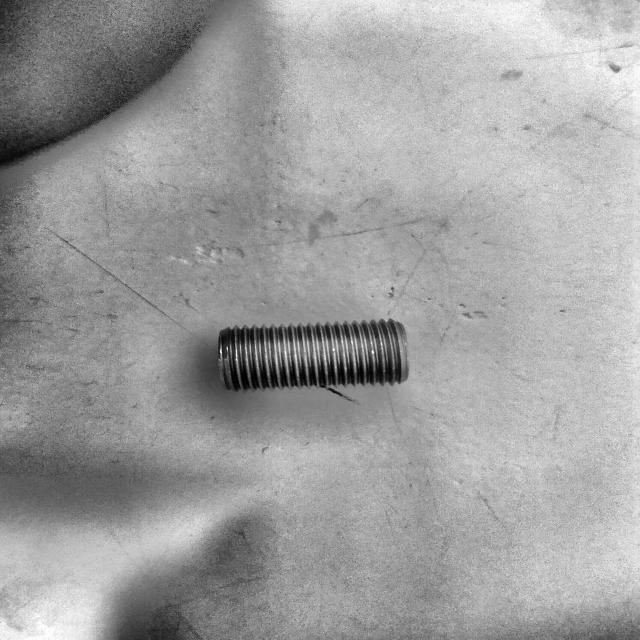Normal: (216, 316, 411, 395)
